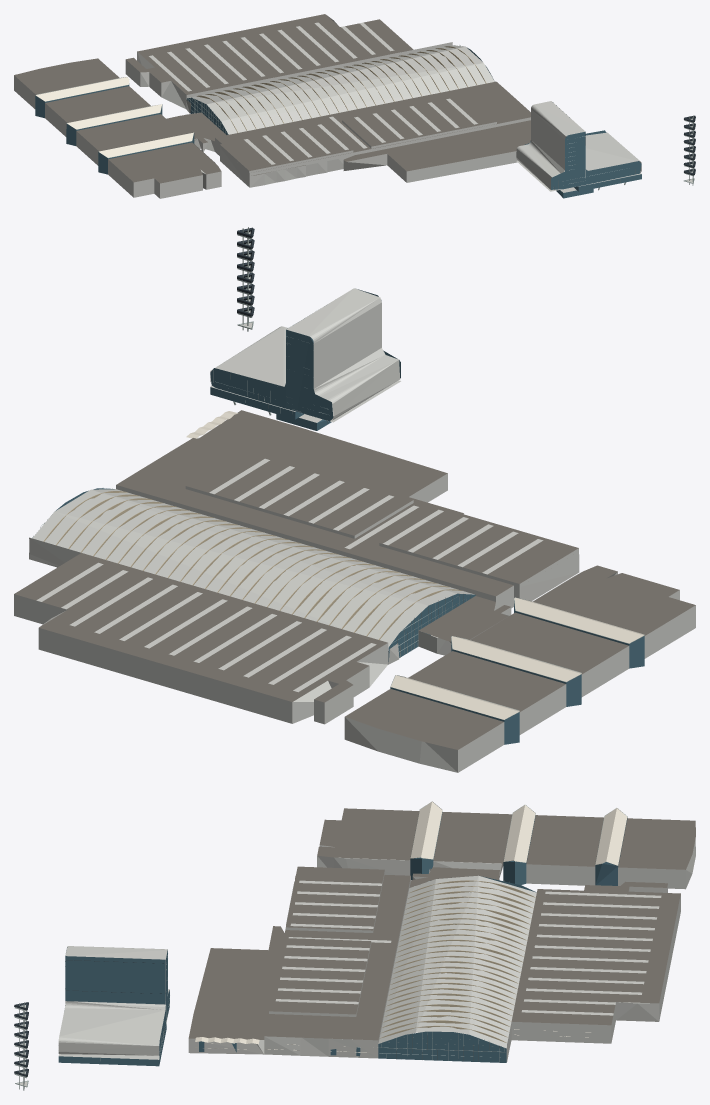
The model's file is rai-amsterdam.lod1.glb.
The picture shows the model from 3 angles, top to bottom: view 1: azimuth 30°, elevation 25°; view 2: azimuth 150°, elevation 25°; view 3: azimuth 270°, elevation 25°; orthographic projection. The views are drawn at different scales.
Visible parts, largest first — view 1: rai-amsterdam; view 2: rai-amsterdam; view 3: rai-amsterdam.
Part boxes in pixels (left/top/right/bottom): rai-amsterdam: left=14, top=14, right=695, bottom=198; rai-amsterdam: left=14, top=227, right=695, bottom=772; rai-amsterdam: left=14, top=801, right=695, bottom=1090.
Bounding box in the file's own units: 332 × 51.13 × 358.
